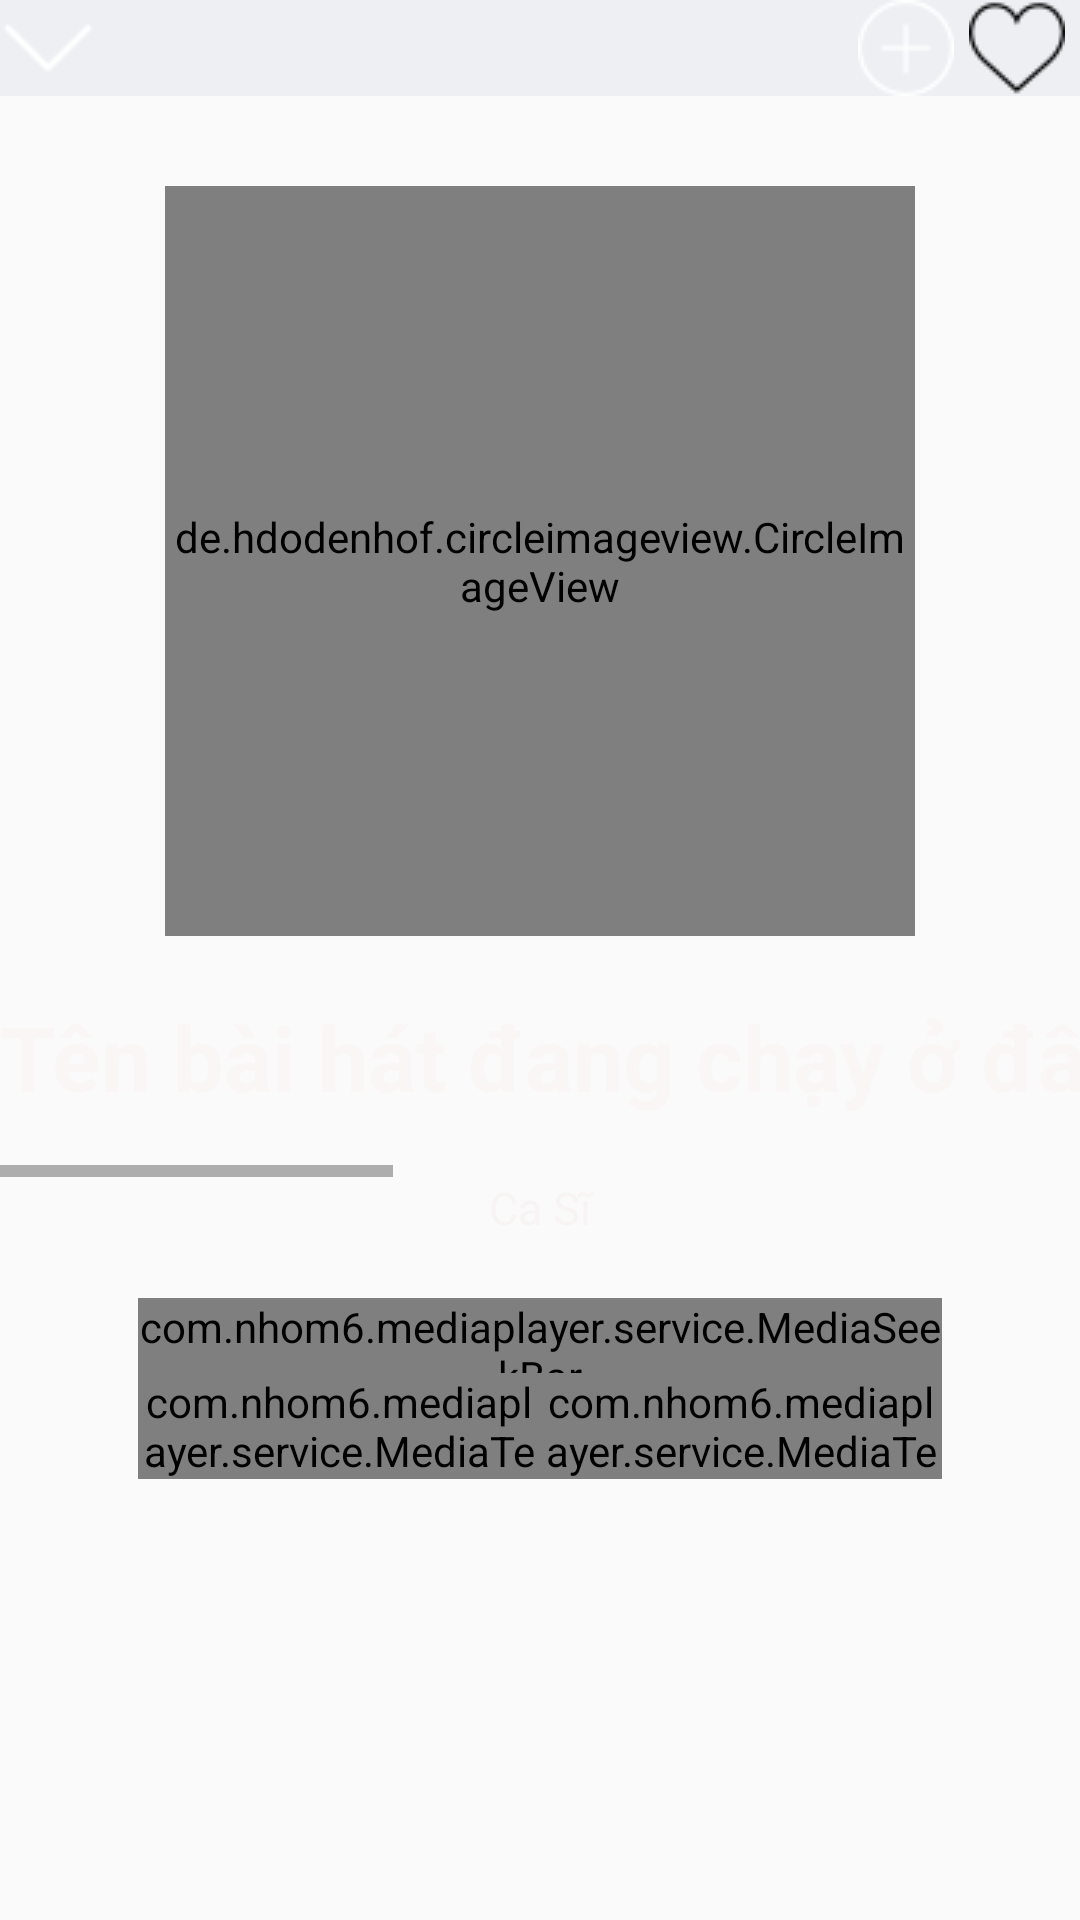

Where to tap for icons on this 1080px×1920px app screen, as [x,y]:
love: [1017,48]
